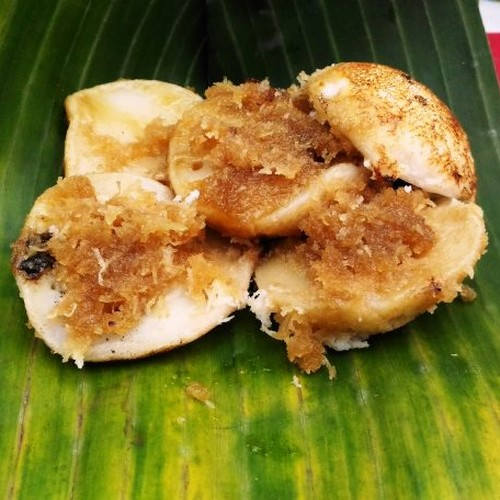laklak: (54, 59, 470, 361)
